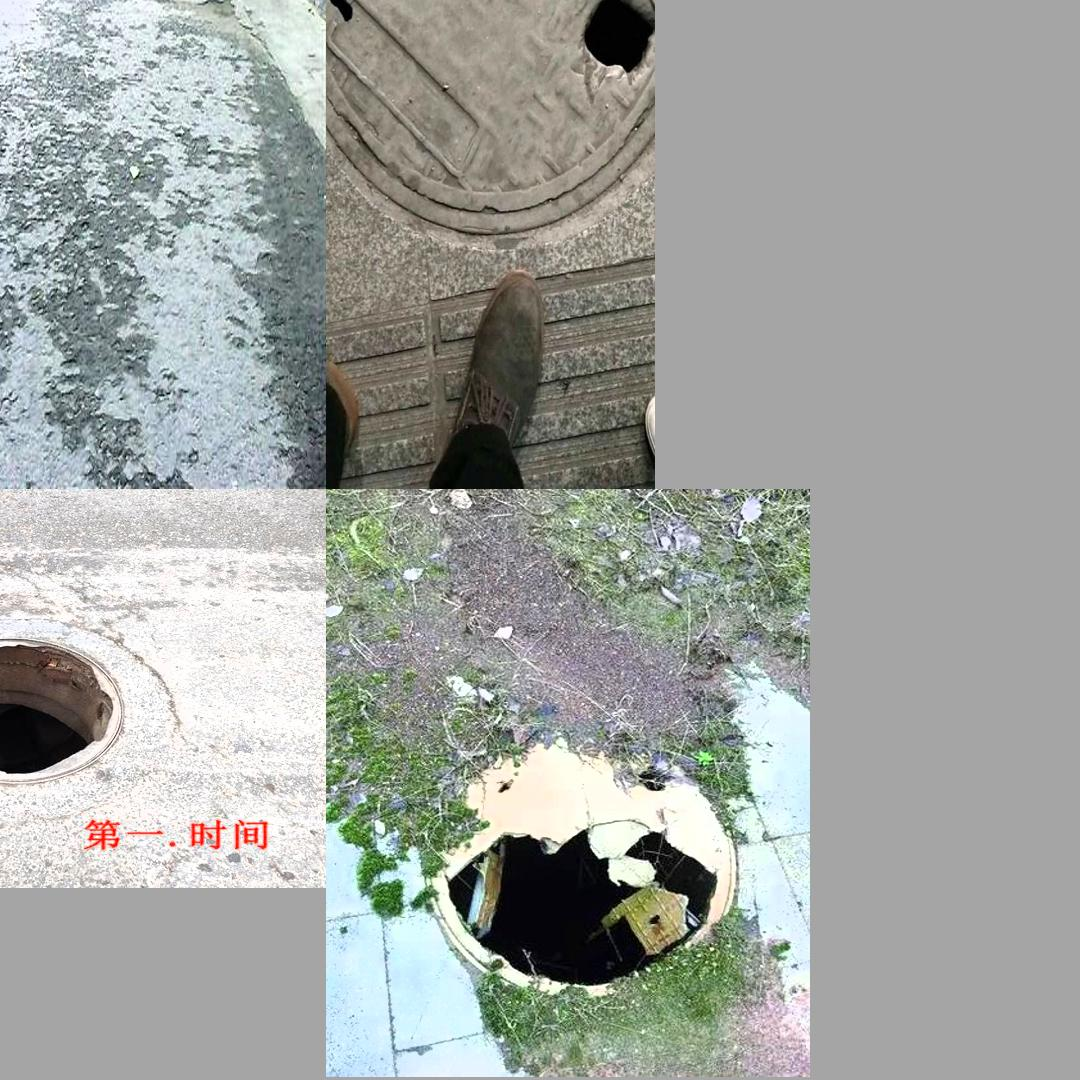broke: (397, 730, 768, 1006), (326, 0, 653, 233), (0, 615, 189, 820), (28, 0, 245, 33)
